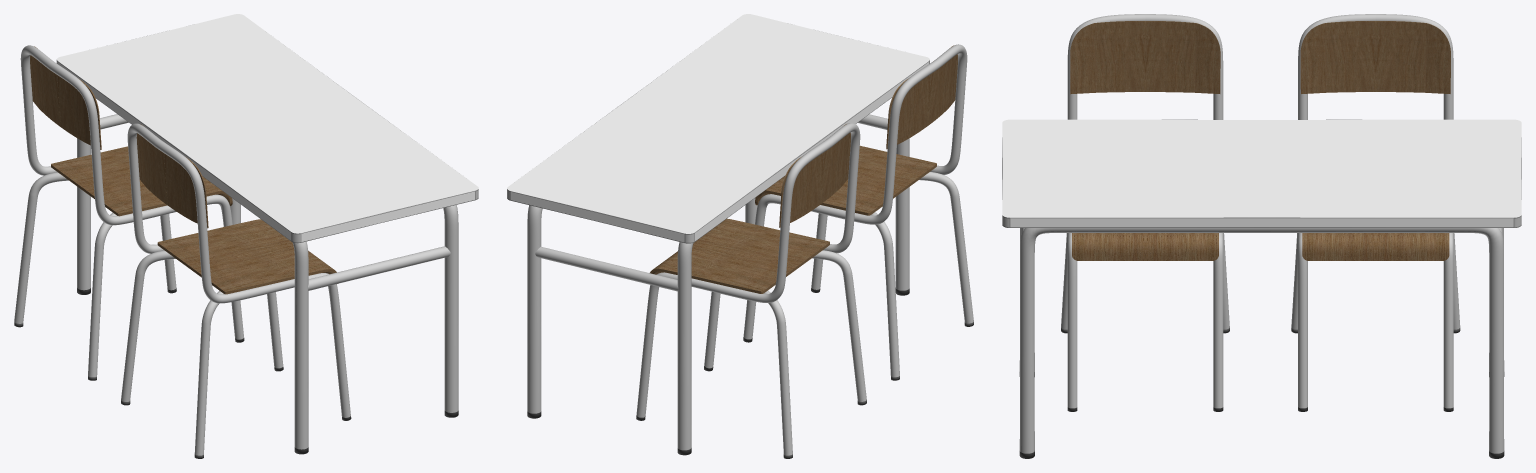
Rendered from school_desk.glb.
3 renders of one model, left to right at view 1: azimuth 30°, elevation 25°; view 2: azimuth 150°, elevation 25°; view 3: azimuth 270°, elevation 25°, orthographic. The views are drawn at different scales.
Parts seen in each view (by area): view 1: Cube.004, NurbsPath.006, Cube.007, NurbsPath.012, NurbsPath.005, Cube, NurbsPath.011, NurbsPath.004, Circle, Circle.001, NurbsPath.007, Cube.005; view 2: Cube.004, NurbsPath.006, Cube, NurbsPath.005, NurbsPath.012, Cube.007, NurbsPath.011, NurbsPath.004, Circle.001, Circle, NurbsPath.007, Cube.005; view 3: Cube.004, Circle.001, Circle, NurbsPath.006, NurbsPath.012, NurbsPath.005, Cube, Cube.007, Cube.005, NurbsPath.011, NurbsPath.004.
Boxes of the visible parts, left/top/right/bottom form: Cube.004: left=57, top=14, right=478, bottom=241; NurbsPath.006: left=77, top=138, right=458, bottom=449; Cube.007: left=157, top=219, right=336, bottom=294; NurbsPath.012: left=127, top=123, right=350, bottom=417; NurbsPath.005: left=20, top=45, right=243, bottom=339; Cube: left=51, top=146, right=232, bottom=216; NurbsPath.011: left=121, top=250, right=223, bottom=455; NurbsPath.004: left=14, top=172, right=116, bottom=377; Circle: left=30, top=46, right=101, bottom=149; Circle.001: left=136, top=124, right=208, bottom=228; NurbsPath.007: left=99, top=114, right=450, bottom=290; Cube.005: left=56, top=35, right=478, bottom=243; Cube.004: left=507, top=14, right=929, bottom=242; NurbsPath.006: left=527, top=138, right=909, bottom=450; Cube: left=650, top=218, right=829, bottom=293; NurbsPath.005: left=636, top=123, right=860, bottom=417; NurbsPath.012: left=743, top=44, right=967, bottom=339; Cube.007: left=755, top=145, right=936, bottom=215; NurbsPath.011: left=871, top=172, right=973, bottom=377; NurbsPath.004: left=764, top=250, right=866, bottom=455; Circle.001: left=886, top=45, right=957, bottom=149; Circle: left=779, top=124, right=850, bottom=227; NurbsPath.007: left=535, top=114, right=887, bottom=291; Cube.005: left=507, top=60, right=929, bottom=243; Cube.004: left=1002, top=119, right=1521, bottom=227; Circle.001: left=1070, top=21, right=1220, bottom=94; Circle: left=1300, top=21, right=1450, bottom=93; NurbsPath.006: left=1019, top=228, right=1504, bottom=453; NurbsPath.012: left=1067, top=14, right=1223, bottom=408; NurbsPath.005: left=1298, top=14, right=1453, bottom=408; Cube: left=1302, top=233, right=1449, bottom=260; Cube.007: left=1072, top=233, right=1218, bottom=260; Cube.005: left=1002, top=119, right=1521, bottom=227; NurbsPath.011: left=1061, top=233, right=1229, bottom=329; NurbsPath.004: left=1291, top=233, right=1460, bottom=329.
Size of the model in its own units: 4.15 by 4.46 by 6.64.
5 materials, 1 textured.
